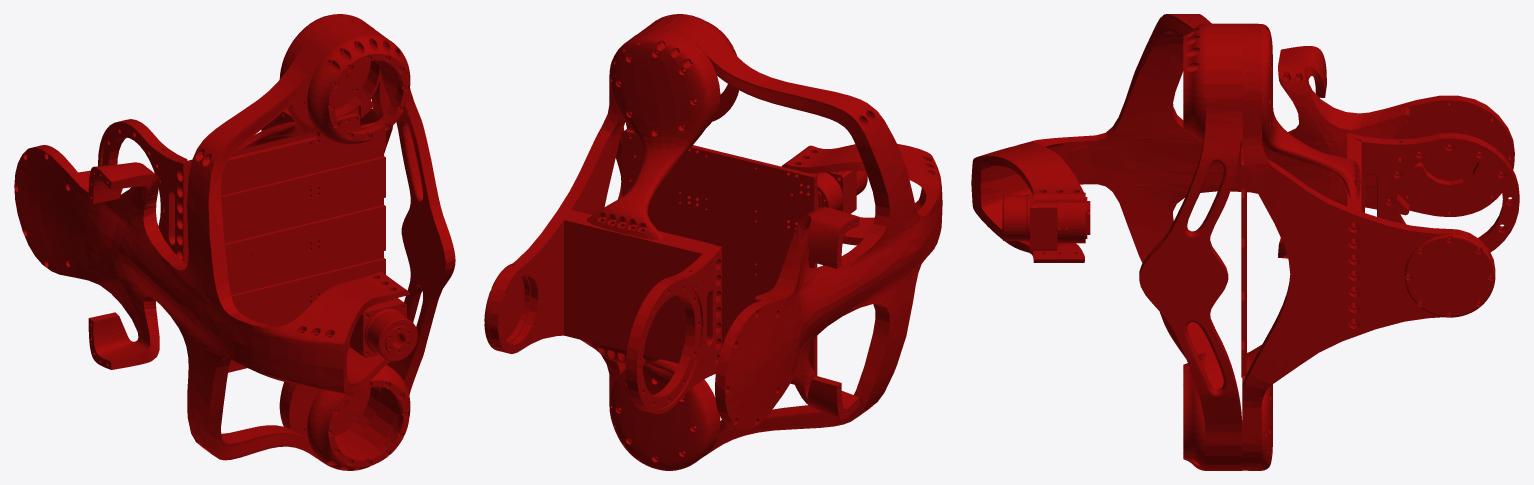
Rendered from upperbody.obj.
3 views of the same model, side by side, from view 1: azimuth 30°, elevation 25°; view 2: azimuth 150°, elevation 25°; view 3: azimuth 270°, elevation 25° (orthographic).
Parts seen in each view (by area): view 1: upperbody; view 2: upperbody; view 3: upperbody.
Boxes of the visible parts, left/top/right/bottom form: upperbody: left=14, top=14, right=455, bottom=470; upperbody: left=484, top=14, right=942, bottom=470; upperbody: left=971, top=14, right=1519, bottom=470.
Size of the model in its own units: 0.2705 by 0.408 by 0.4648.
